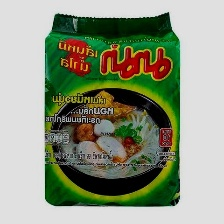snack: (37, 4, 189, 213)
